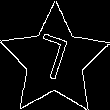L_S: (33, 31, 77, 90)
